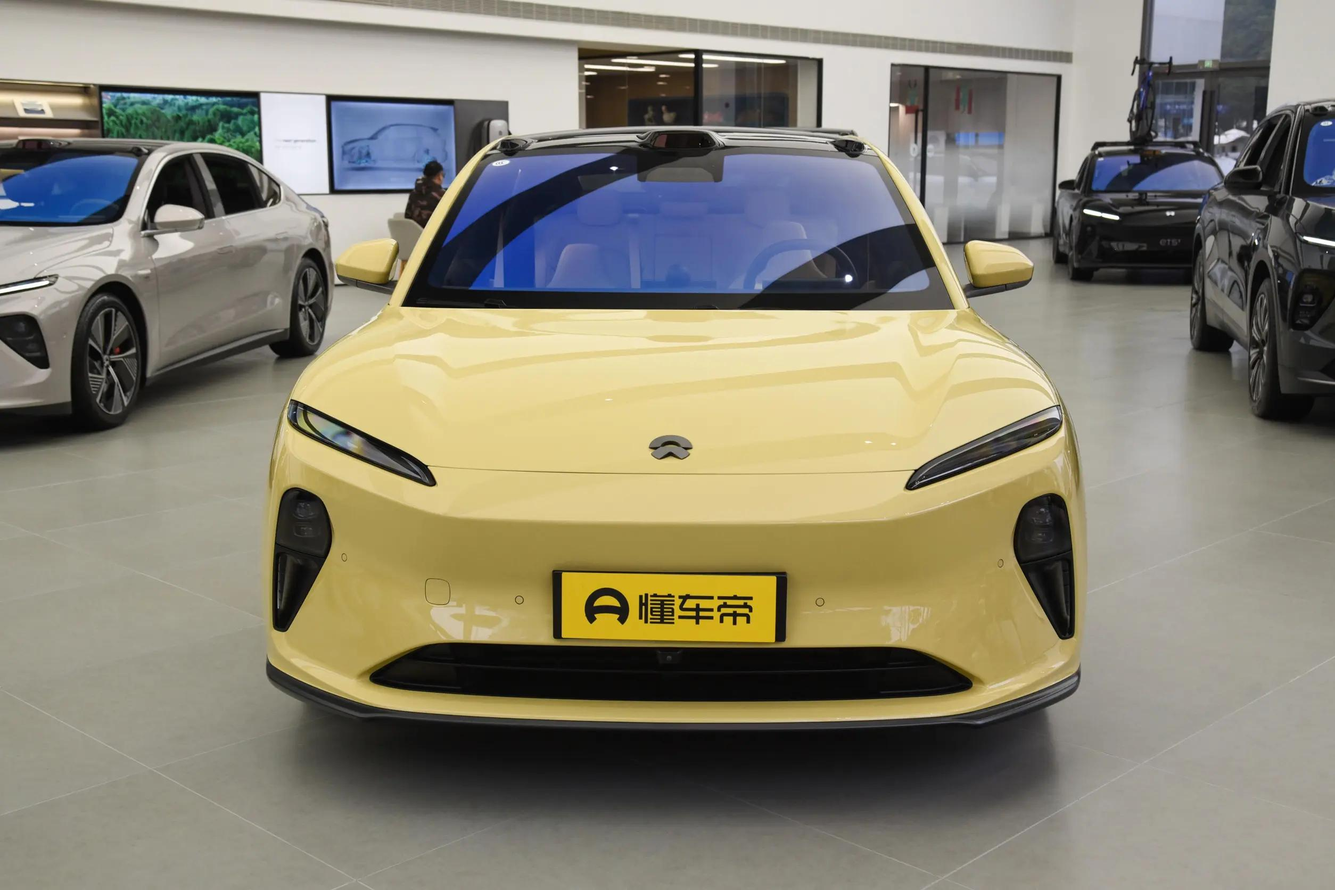NIO: (648, 434, 693, 460)
